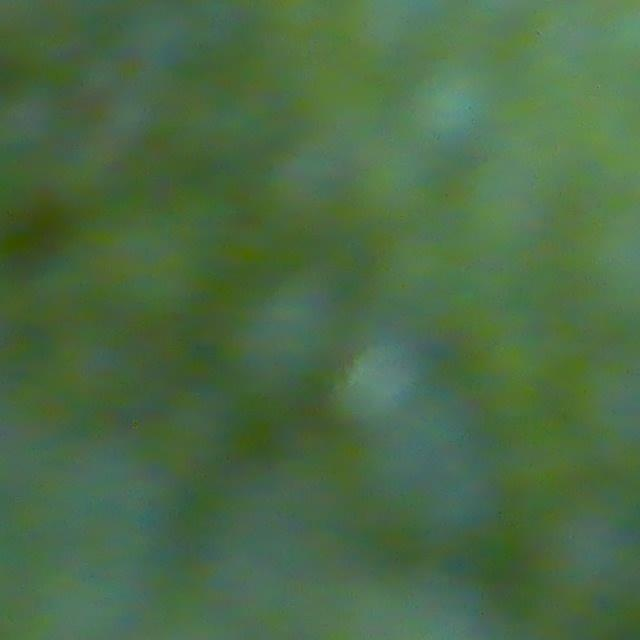SeaGrape: (214, 263, 343, 396), (332, 335, 430, 430)
